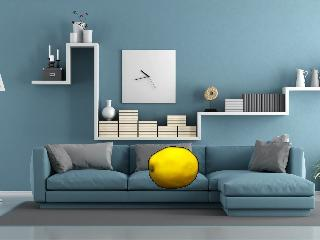lemon: (150, 148, 199, 189)
